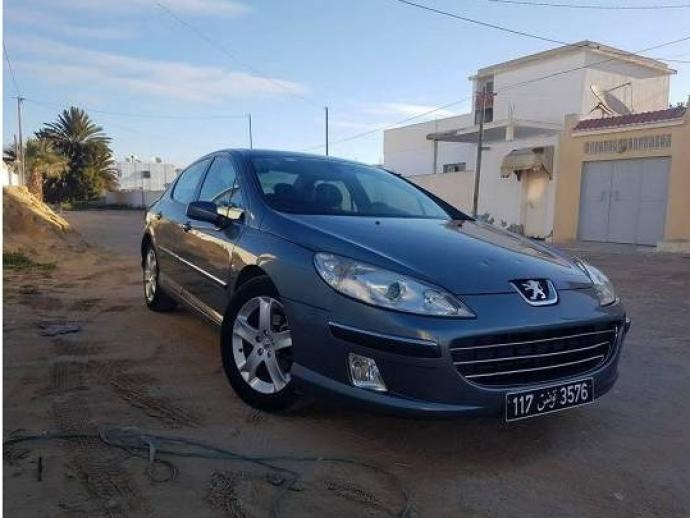LP: (501, 376, 598, 424)
